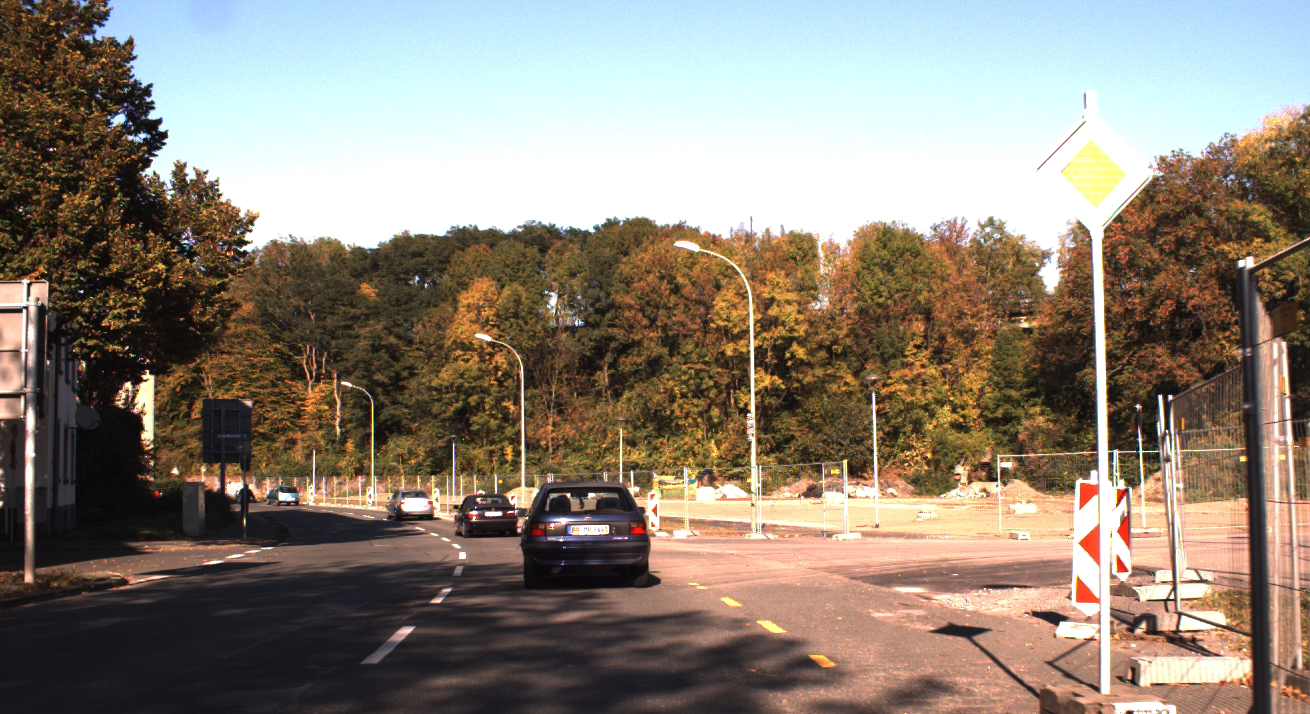yellow: (1032, 116, 1152, 238)
